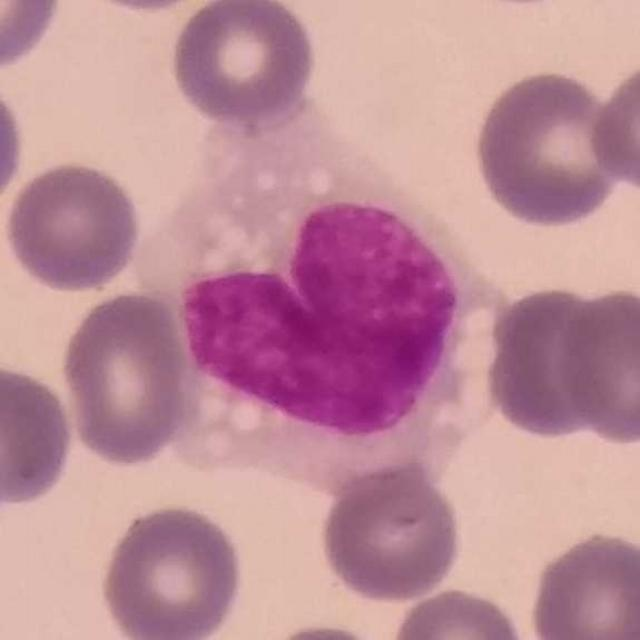Monocyte: (141, 114, 509, 486)
RBC: (56, 286, 202, 469), (470, 66, 629, 230), (479, 281, 622, 444), (315, 462, 466, 605), (96, 500, 248, 640), (164, 0, 320, 130), (2, 156, 146, 296), (551, 285, 640, 447), (525, 526, 640, 640), (0, 358, 78, 516), (386, 583, 532, 640), (586, 53, 640, 196), (0, 0, 65, 73), (0, 72, 28, 220), (267, 617, 381, 640), (96, 0, 190, 17)
